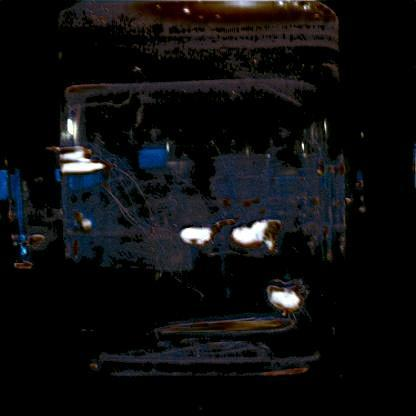GoldThorn: (267, 278, 309, 314), (233, 222, 283, 251), (180, 221, 235, 247), (59, 162, 113, 180), (58, 146, 96, 164)
